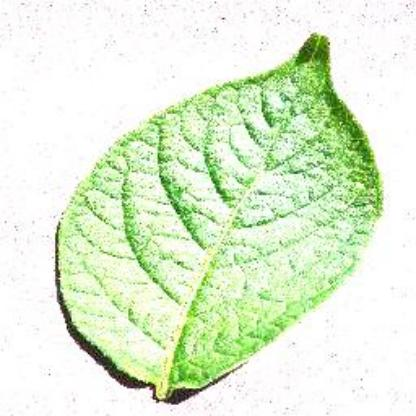Healthy-plant: (42, 32, 394, 404)
